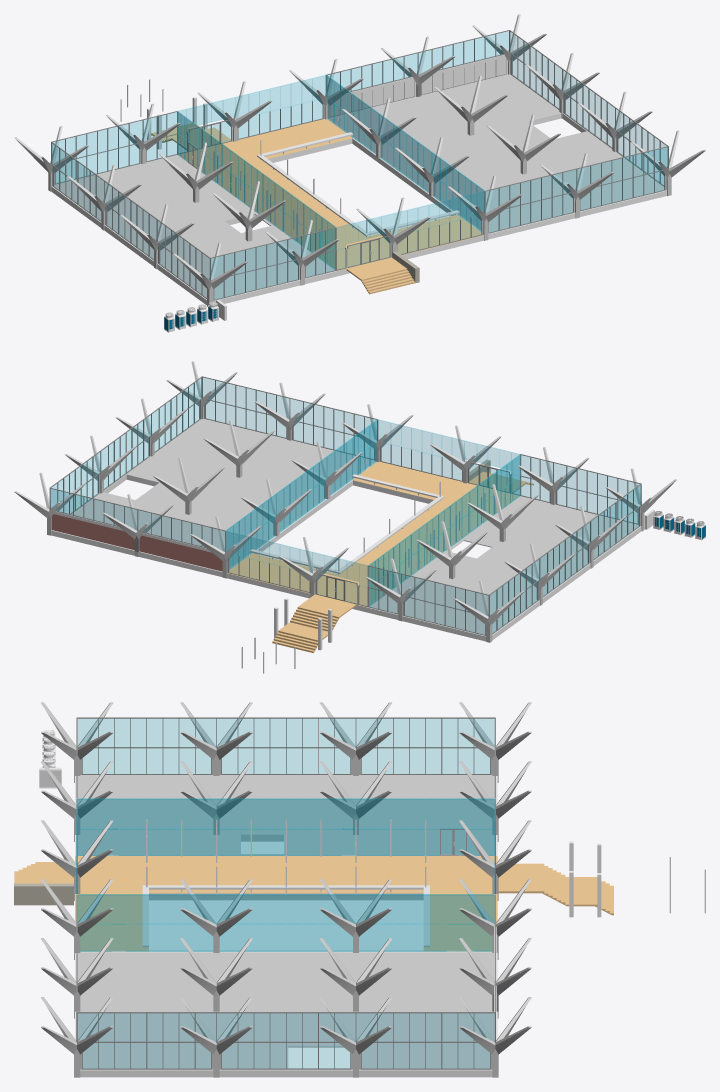
3 renders of one model, top to bottom at view 1: azimuth 30°, elevation 25°; view 2: azimuth 150°, elevation 25°; view 3: azimuth 270°, elevation 25°, orthographic. The views are drawn at different scales.
Visible parts, largest first — view 1: EN2020102, EN2020101, EN2020199; view 2: EN2020102, EN2020101, EN2020199; view 3: EN2020102, EN2020199, EN2020101.
Part boxes in pixels (x1=…): EN2020102: x1=290, y1=14, x2=705, y2=240; EN2020101: x1=14, y1=103, x2=338, y2=332; EN2020199: x1=120, y1=59, x2=522, y2=294; EN2020102: x1=14, y1=361, x2=412, y2=578; EN2020101: x1=365, y1=447, x2=705, y2=642; EN2020199: x1=190, y1=405, x2=533, y2=673; EN2020102: x1=41, y1=879, x2=531, y2=1077; EN2020199: x1=14, y1=798, x2=705, y2=952; EN2020101: x1=39, y1=702, x2=531, y2=855.
Size of the model in its own units: 58.57 by 6.42 by 49.63.
